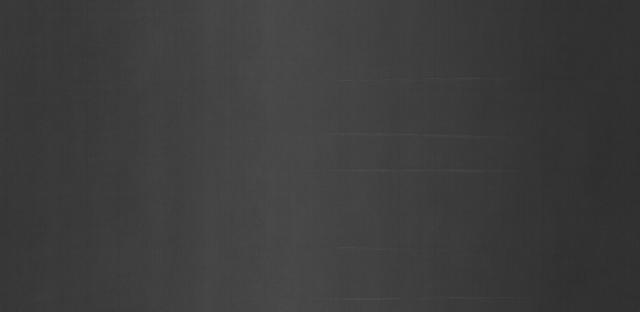waist_folding: (342, 39, 512, 273)
